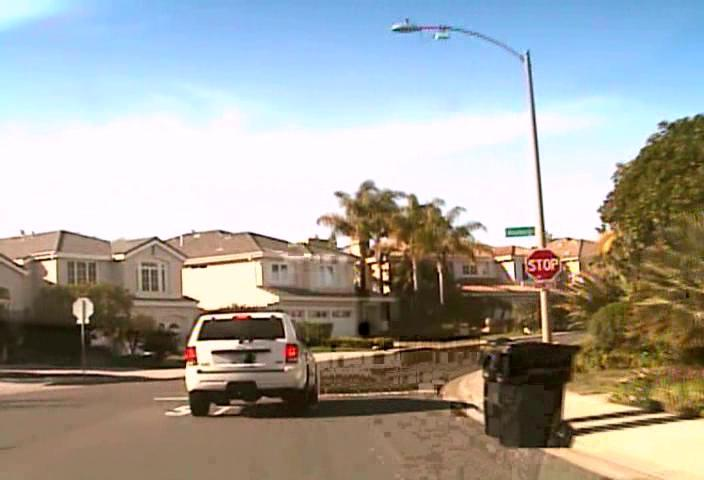stop: (526, 248, 561, 282)
